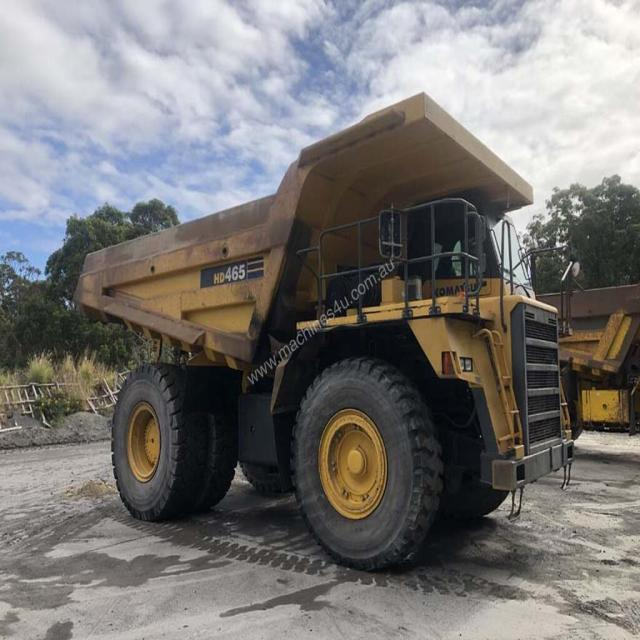dump_truck: (67, 95, 581, 569)
